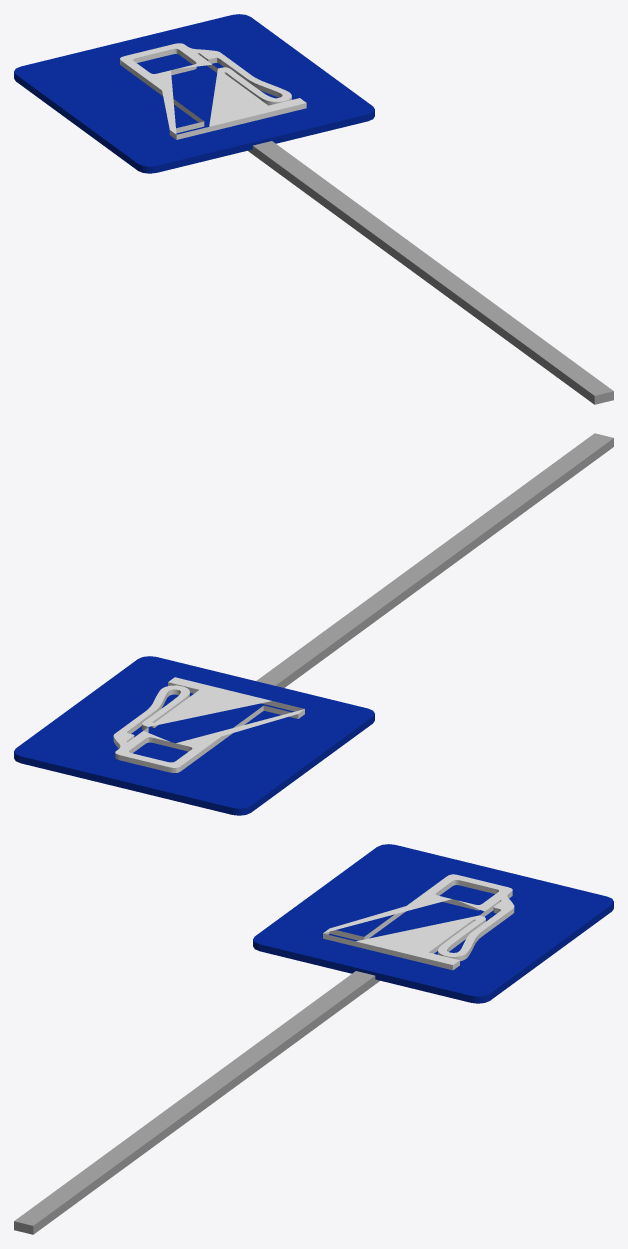
File: gas_sign.fbx
The picture shows the model from 3 angles, top to bottom: view 1: azimuth 30°, elevation 25°; view 2: azimuth 150°, elevation 25°; view 3: azimuth 330°, elevation 25°; orthographic projection.
Parts seen in each view (by area): view 1: square_yellow_sign, signpost_mat1, svgMesh2; view 2: square_yellow_sign, signpost_mat1, svgMesh2; view 3: square_yellow_sign, signpost_mat1, svgMesh2.
Part boxes in pixels (x1,y1,x2,y2): square_yellow_sign: (14, 14, 374, 173); signpost_mat1: (248, 141, 613, 404); svgMesh2: (120, 43, 306, 139); square_yellow_sign: (14, 656, 374, 815); signpost_mat1: (256, 433, 613, 687); svgMesh2: (113, 677, 304, 772); square_yellow_sign: (253, 844, 613, 1003); signpost_mat1: (14, 971, 379, 1234); svgMesh2: (323, 874, 514, 970).
Size of the model in its own units: 70.96 by 5 by 250.
